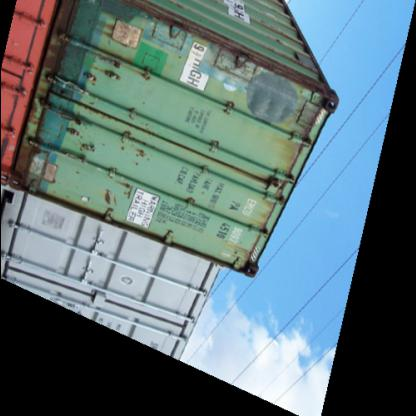Damage: (123, 8, 319, 111), (17, 1, 99, 199)
